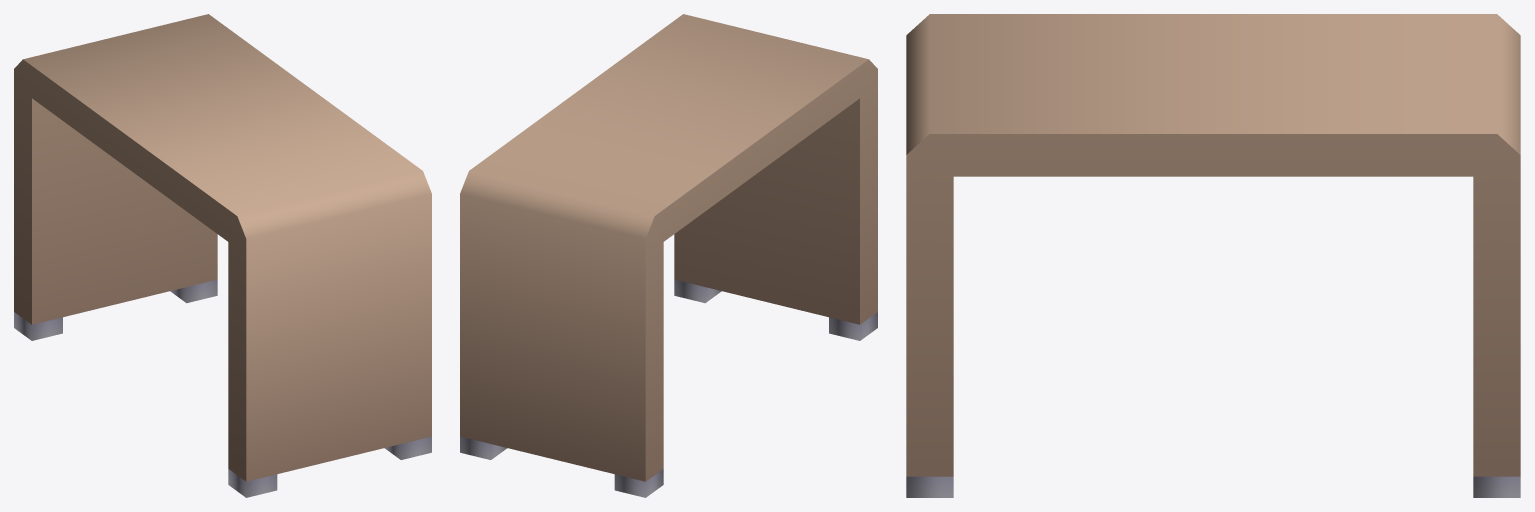
Rendered from cabinet-basic-small.glb.
3 renders of one model, left to right at view 1: azimuth 30°, elevation 25°; view 2: azimuth 150°, elevation 25°; view 3: azimuth 270°, elevation 25°, orthographic. The views are drawn at different scales.
Parts seen in each view (by area): view 1: cabinet-basic-small; view 2: cabinet-basic-small; view 3: cabinet-basic-small.
Boxes of the visible parts, x1=… form: cabinet-basic-small: x1=14, y1=14, x2=431, y2=497; cabinet-basic-small: x1=460, y1=14, x2=877, y2=497; cabinet-basic-small: x1=906, y1=14, x2=1520, y2=497.
Size of the model in its own units: 0.3 by 0.425 by 0.65.
